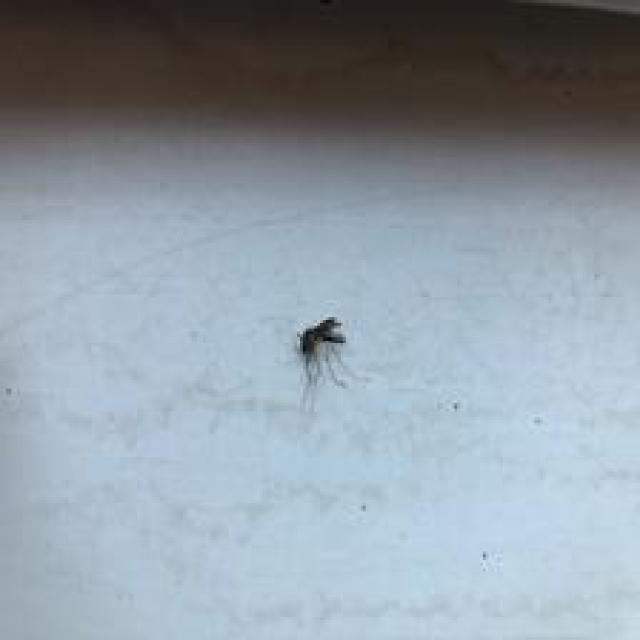Culex: (294, 314, 349, 412)
